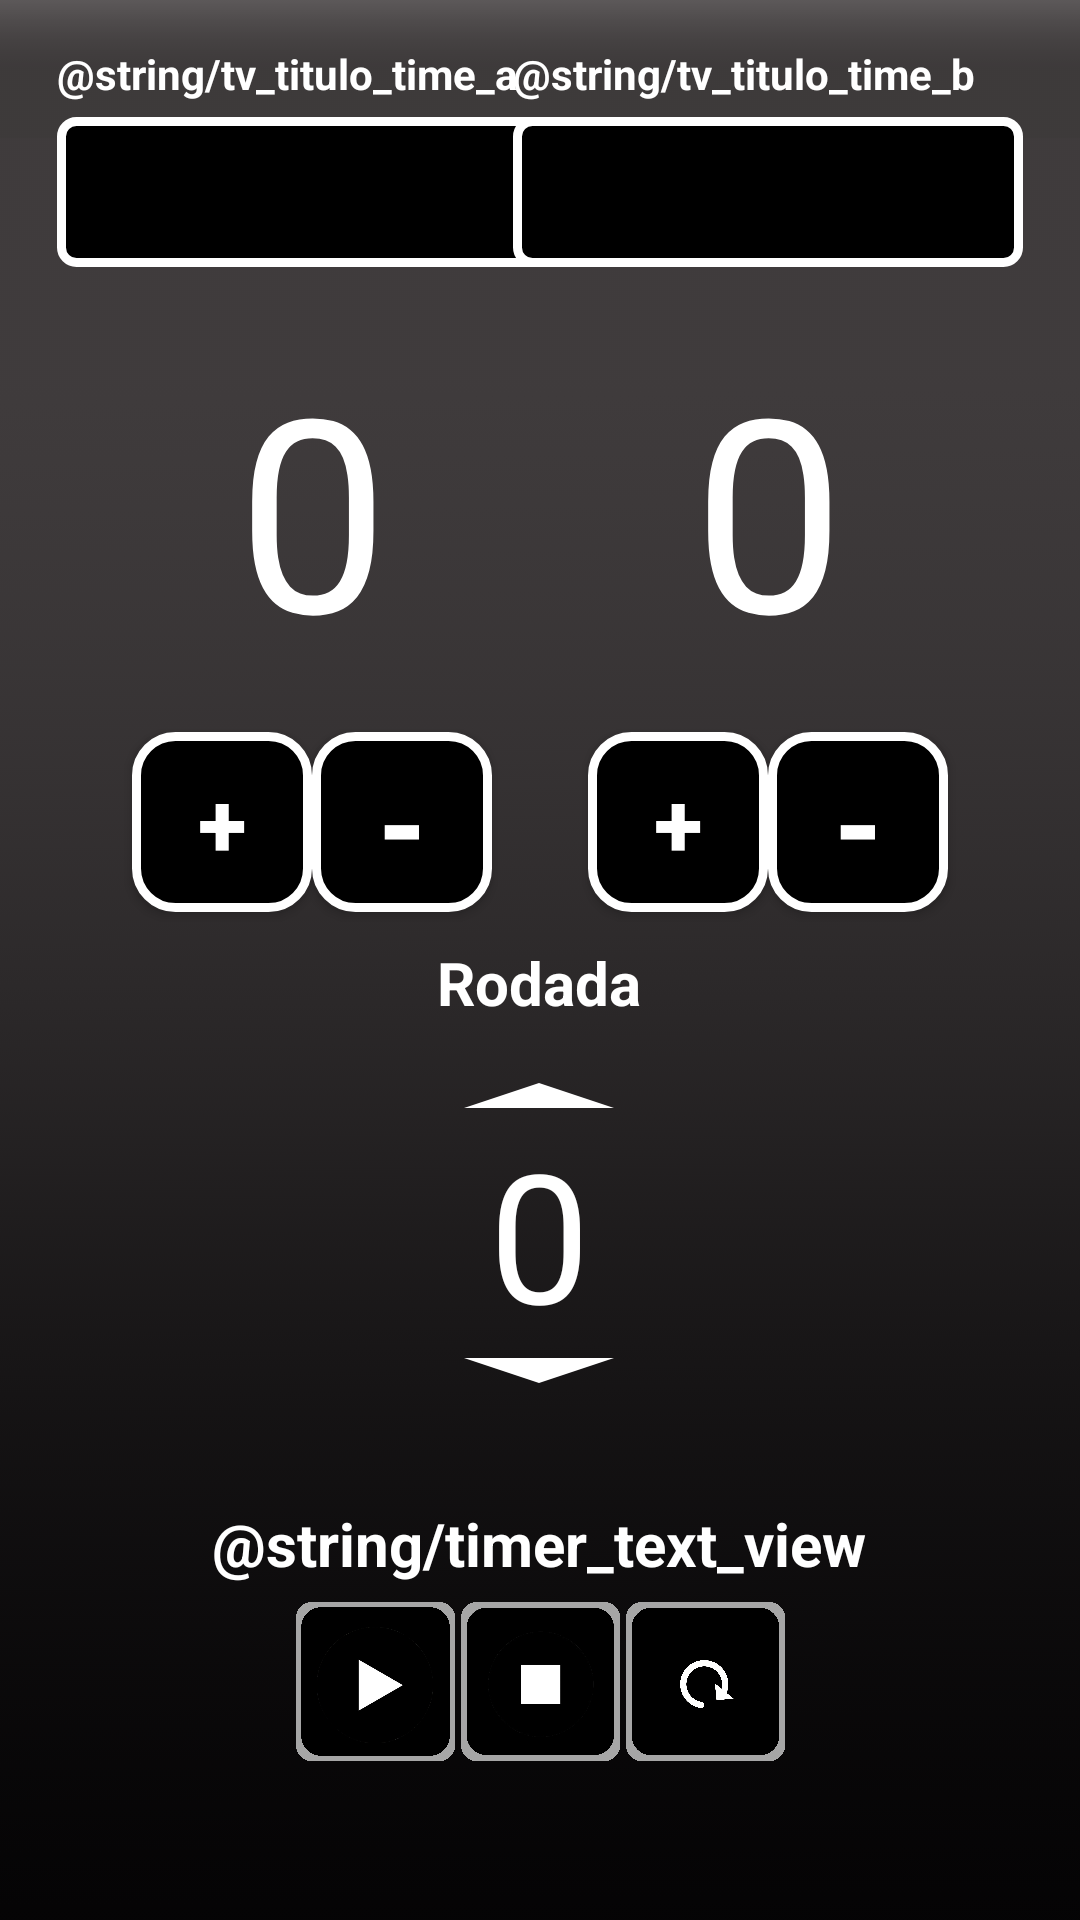

Screen size 1080px x 1920px. Icon name, then its box in pixels as (x1, y1, x2, y2):
arrow drop down: (464, 1358, 614, 1383)
arrow drop up: (464, 1083, 614, 1108)
